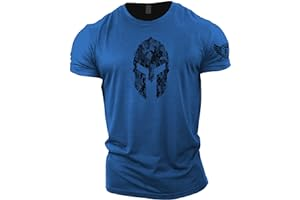design: (131, 34, 171, 106)
